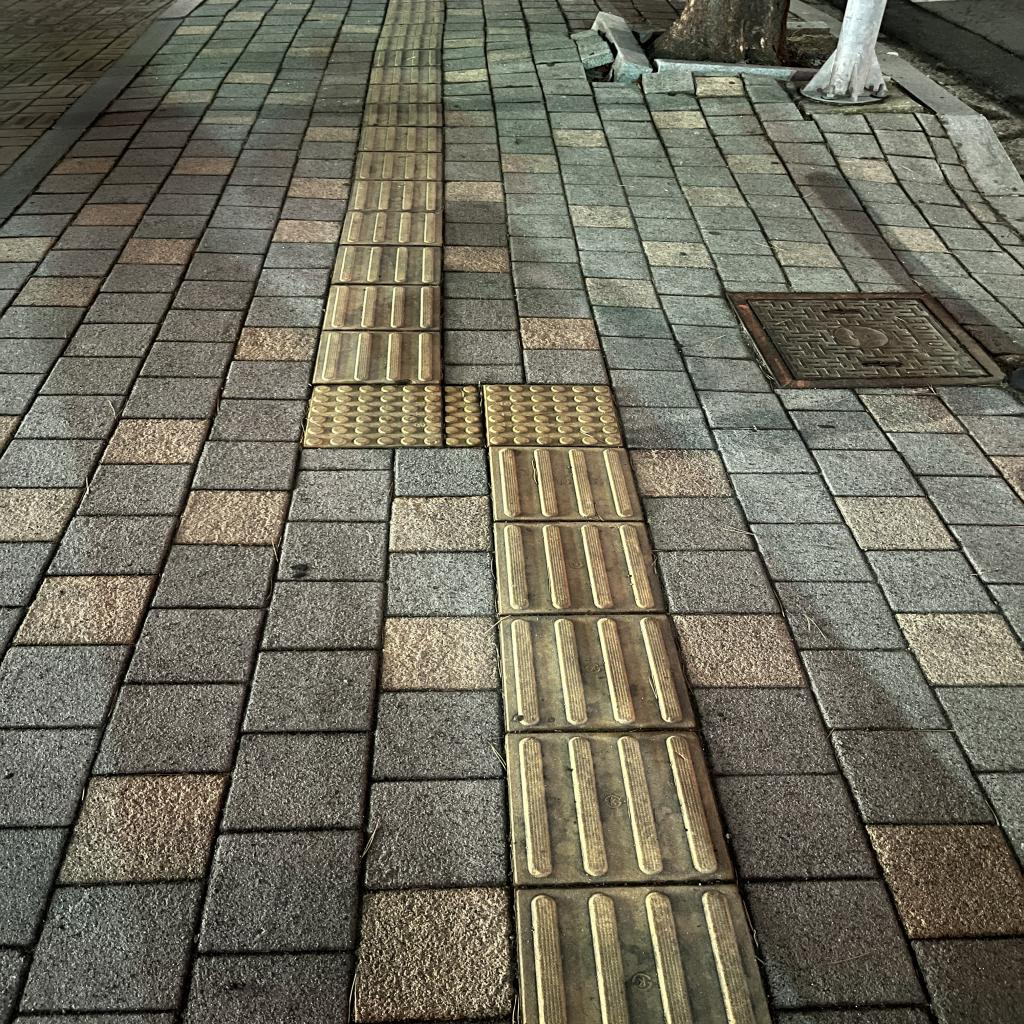Stop block normal: (485, 384, 624, 445), (304, 385, 442, 445)
Straight block normal: (509, 731, 734, 882), (502, 614, 696, 731), (495, 520, 666, 612), (491, 447, 643, 519), (314, 332, 441, 382), (324, 286, 440, 330)
